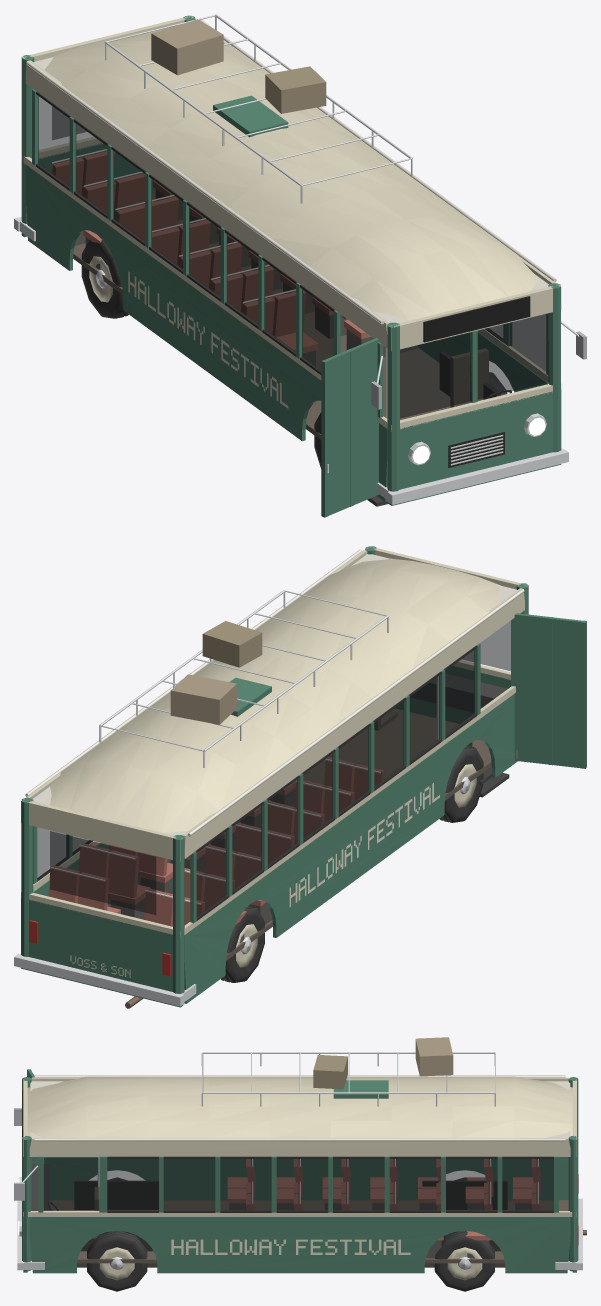
File: festival_bus_restored_open_lod1.glb
3 renders of one model, top to bottom at view 1: azimuth 30°, elevation 25°; view 2: azimuth 150°, elevation 25°; view 3: azimuth 270°, elevation 25°, orthographic. The views are drawn at different scales.
Parts seen in each view (by area): view 1: body, door, destination_board, wheel_rr; view 2: body, door, wheel_fr, wheel_rr; view 3: body, wheel_fl, wheel_rl.
Boxes of the visible parts, box(x1,y1,x2,y2) form: body: box(14, 14, 586, 506); door: box(321, 337, 378, 517); destination_board: box(423, 296, 530, 342); wheel_rr: box(81, 240, 128, 318); body: box(14, 546, 528, 1008); door: box(511, 613, 586, 768); wheel_fr: box(439, 745, 483, 822); wheel_rr: box(221, 906, 264, 982); body: box(14, 1037, 586, 1273); wheel_fl: box(87, 1231, 147, 1291); wheel_rl: box(434, 1231, 494, 1291).
Size of what is drawn, in the model's own units: 3.6 by 3.82 by 9.39.
